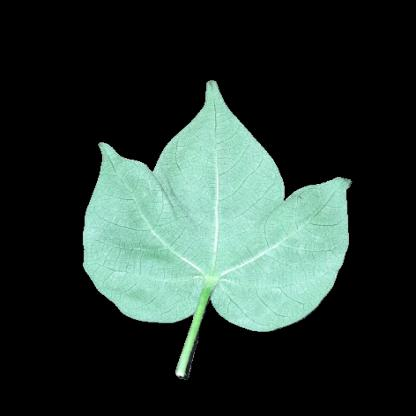healthy: (185, 153, 267, 300), (108, 187, 173, 294)
